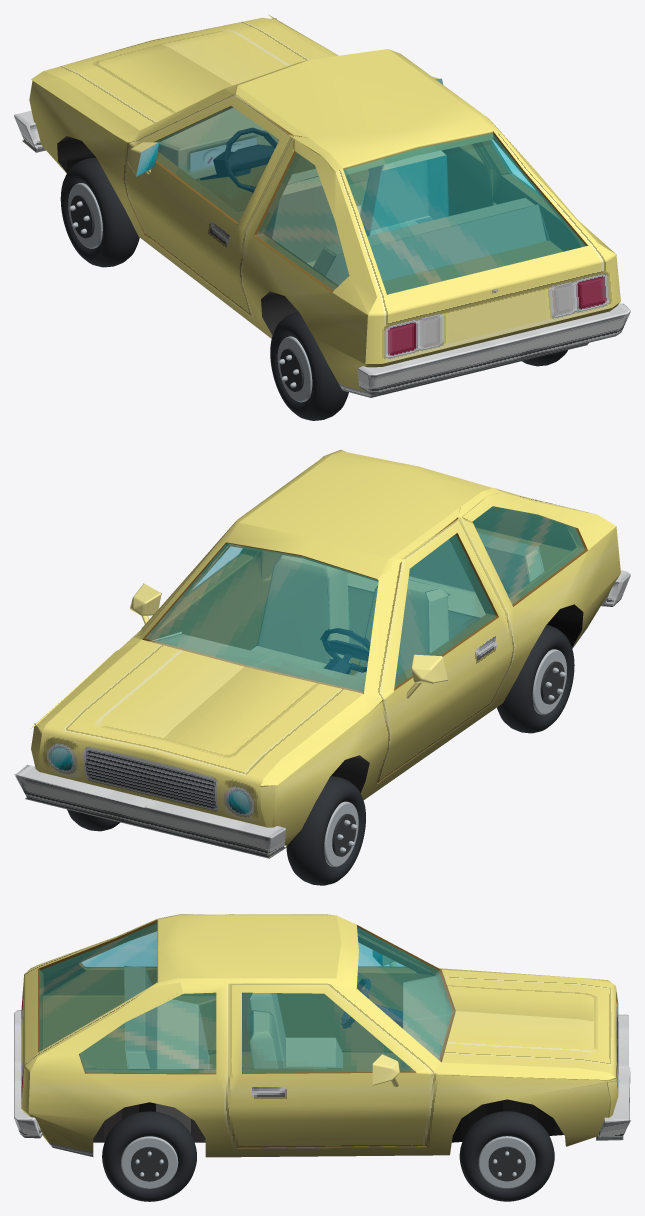
File: car-cnerd.glb
3 renders of one model, top to bottom at view 1: azimuth 30°, elevation 25°; view 2: azimuth 150°, elevation 25°; view 3: azimuth 270°, elevation 25°, orthographic. The views are drawn at different scales.
Visible parts, largest first — view 1: cNerdShape.002, cNerdShape.004, cNerdShape.005, cNerdShape.001, cNerdShape.006, cNerdShape.003, DoorDRotShape.045, DoorDRotShape.048, Rounded tire.070, Rounded tire.069, DoorPRotShape.052, steeringShape (+6 smaller); view 2: cNerdShape.002, cNerdShape.003, cNerdShape.005, cNerdShape.004, cNerdShape.006, DoorDRotShape.045, DoorDRotShape.048, DoorPRotShape.052, Rounded tire.070, Rounded tire.069, DoorDRotShape.047, cNerdShape (+8 smaller); view 3: cNerdShape.002, cNerdShape.004, cNerdShape.005, DoorPRotShape.050, cNerdShape.003, cNerdShape.006, DoorPRotShape.053, DoorDRotShape.047, Rounded tire.071, Rounded tire.068, cNerdShape, cNerdShape.001 (+8 smaller).
Boxes of the visible parts, x1,y1,x2,y2 form: cNerdShape.002: (14, 14, 630, 397); cNerdShape.004: (129, 90, 587, 316); cNerdShape.005: (257, 134, 585, 293); cNerdShape.001: (335, 131, 620, 363); cNerdShape.006: (238, 49, 493, 174); cNerdShape.003: (43, 17, 329, 130); DoorDRotShape.045: (124, 95, 291, 315); DoorDRotShape.048: (156, 106, 278, 222); Rounded tire.070: (60, 157, 139, 267); Rounded tire.069: (270, 311, 348, 420); DoorPRotShape.052: (368, 143, 493, 216); steeringShape: (200, 127, 277, 193); cNerdShape.002: (14, 450, 630, 858); cNerdShape.003: (39, 639, 363, 826); cNerdShape.005: (145, 506, 584, 691); cNerdShape.004: (142, 451, 587, 783); cNerdShape.006: (240, 451, 492, 558); DoorDRotShape.045: (379, 519, 513, 781); DoorDRotShape.048: (394, 534, 495, 687); DoorPRotShape.052: (148, 546, 261, 650); Rounded tire.070: (286, 776, 365, 885); Rounded tire.069: (497, 624, 574, 733); DoorDRotShape.047: (394, 518, 498, 690); cNerdShape: (287, 604, 583, 845); cNerdShape.002: (14, 914, 630, 1157); cNerdShape.004: (38, 920, 455, 1148); cNerdShape.005: (39, 923, 452, 1072); DoorPRotShape.050: (227, 984, 433, 1147); cNerdShape.003: (441, 970, 618, 1094); cNerdShape.006: (157, 915, 341, 982); DoorPRotShape.053: (242, 993, 414, 1072); DoorDRotShape.047: (242, 934, 434, 1052); Rounded tire.071: (459, 1111, 554, 1201); Rounded tire.068: (102, 1111, 196, 1201); cNerdShape: (52, 1099, 563, 1147); cNerdShape.001: (21, 919, 156, 1113).
Bounding box in the file's own units: 2.54 × 1.92 × 5.11.
Materials: 11 (8 with a texture image).
